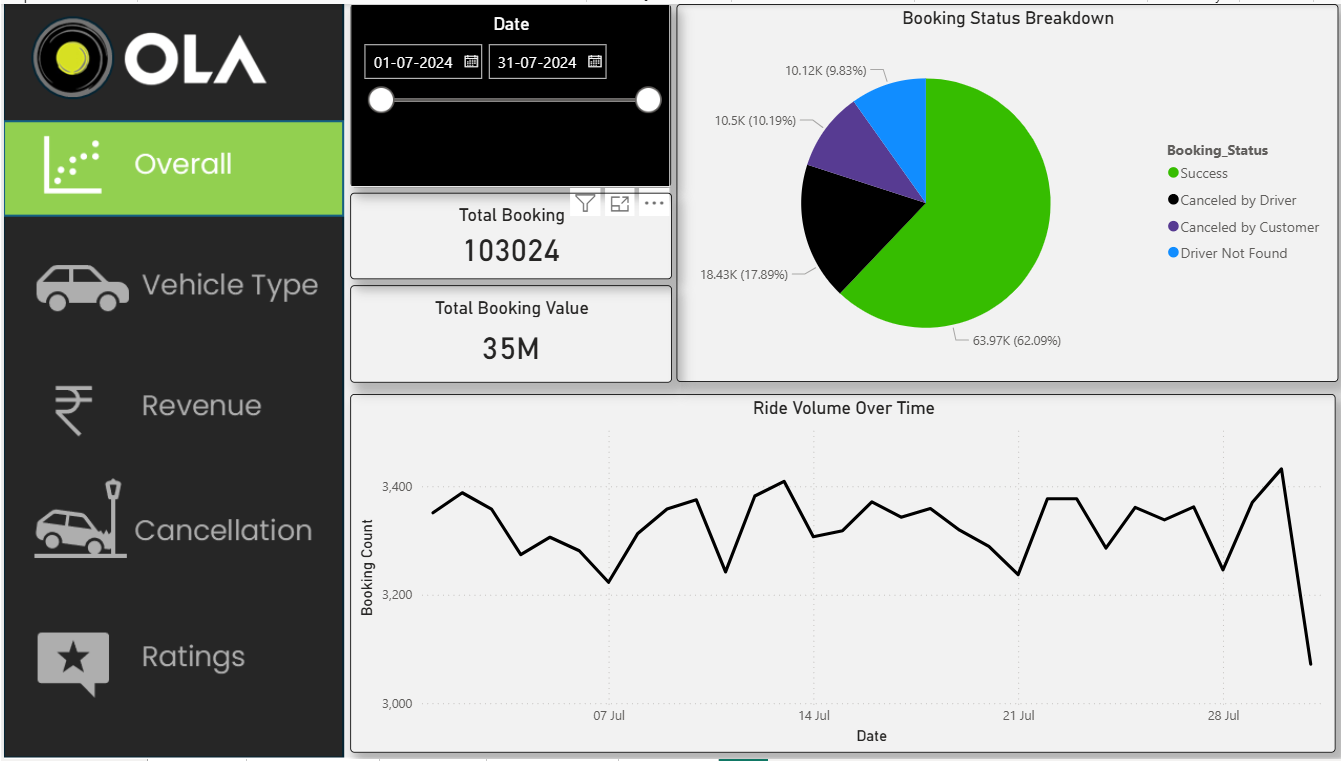

This screenshot's page, from the dashboard's own definition file:
{"tool":"powerbi","page":{"name":"Overall","canvas":[1280,720],"ordinal":0},"visuals":[{"type":"actionButton","box":[0,216.7,323.8,91.7],"z":0},{"type":"actionButton","box":[0,216.7,323.8,91.7],"z":1000},{"type":"actionButton","box":[0,340.5,323.8,91.7],"z":2000},{"type":"actionButton","box":[0,445.2,323.8,91.7],"z":3000},{"type":"actionButton","box":[0,582.1,323.8,91.7],"z":4000},{"type":"actionButton","box":[0,110.7,323.8,91.7],"z":5000},{"type":"lineChart","title":"Ride Volume Over Time","fields":{"Y":["CountNonNull(July.Booking_ID)"],"Category":["July.Date"]},"box":[330,371.2,938.8,341.2],"z":6000},{"type":"pieChart","title":"Booking Status Breakdown","fields":{"Category":["July.Booking_Status"],"Y":["CountNonNull(July.Booking_Status)"]},"box":[640,0,630,360],"z":7000},{"type":"slicer","title":"Date","fields":{"Values":["July.Date"]},"box":[329.4,0,305.6,174.4],"z":8000},{"type":"card","title":"Total Booking","fields":{"Values":["CountNonNull(July.Booking_ID)"]},"box":[330,180,306.2,82.5],"z":9000},{"type":"card","title":"Total Booking Value","fields":{"Values":["Sum(July.Booking_Value)"]},"box":[330,267.5,306.2,92.5],"z":10000}]}

Visuals, with their boxes in screenshot pixels (x1, y1, x2, y2), scaled from the page's 1280x720 canvas onto the 1341x761 screenshot:
actionButton: crop(0, 229, 339, 326)
actionButton: crop(0, 229, 339, 326)
actionButton: crop(0, 360, 339, 457)
actionButton: crop(0, 471, 339, 567)
actionButton: crop(0, 615, 339, 712)
actionButton: crop(0, 117, 339, 214)
"Ride Volume Over Time" lineChart: crop(346, 392, 1329, 753)
"Booking Status Breakdown" pieChart: crop(670, 0, 1331, 380)
"Date" slicer: crop(345, 0, 665, 184)
"Total Booking" card: crop(346, 190, 667, 277)
"Total Booking Value" card: crop(346, 283, 667, 380)
